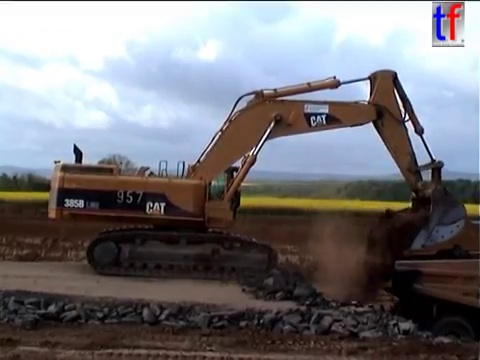excavator: (44, 66, 471, 283)
truck: (360, 248, 480, 360)
